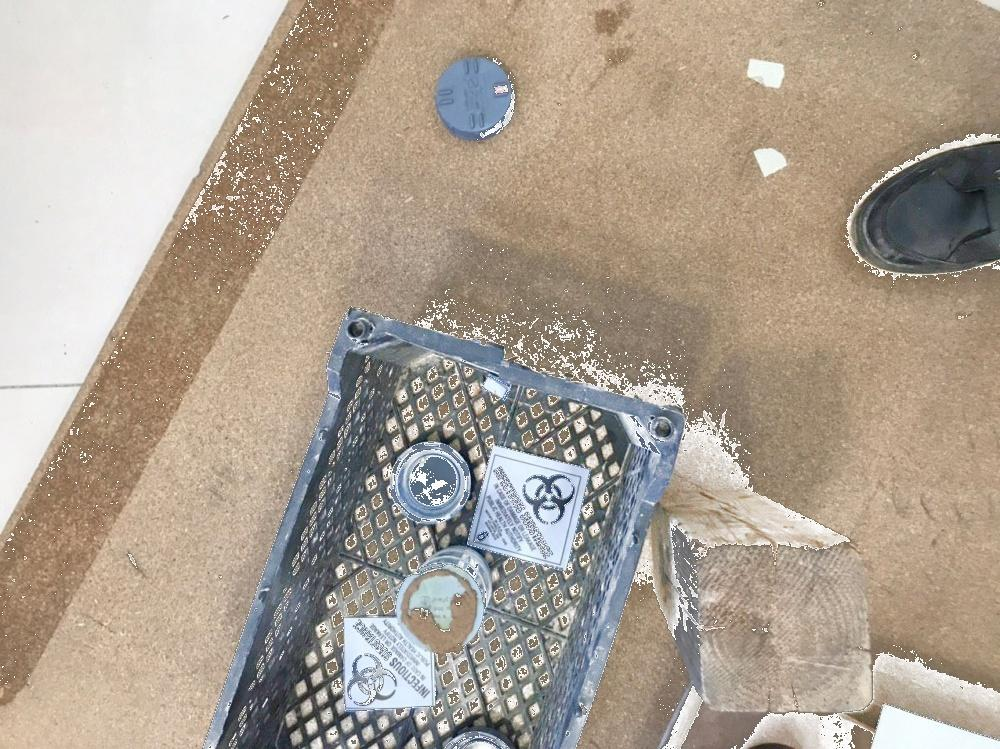infectious-substance: (472, 445, 591, 575), (342, 618, 437, 710)
